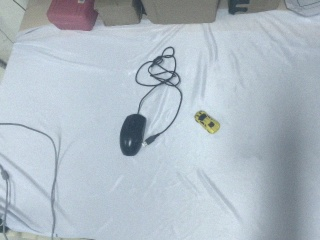box: (45, 1, 96, 30), (98, 1, 141, 28)
mouse: (119, 114, 147, 157)
toy_car: (194, 108, 221, 134)
